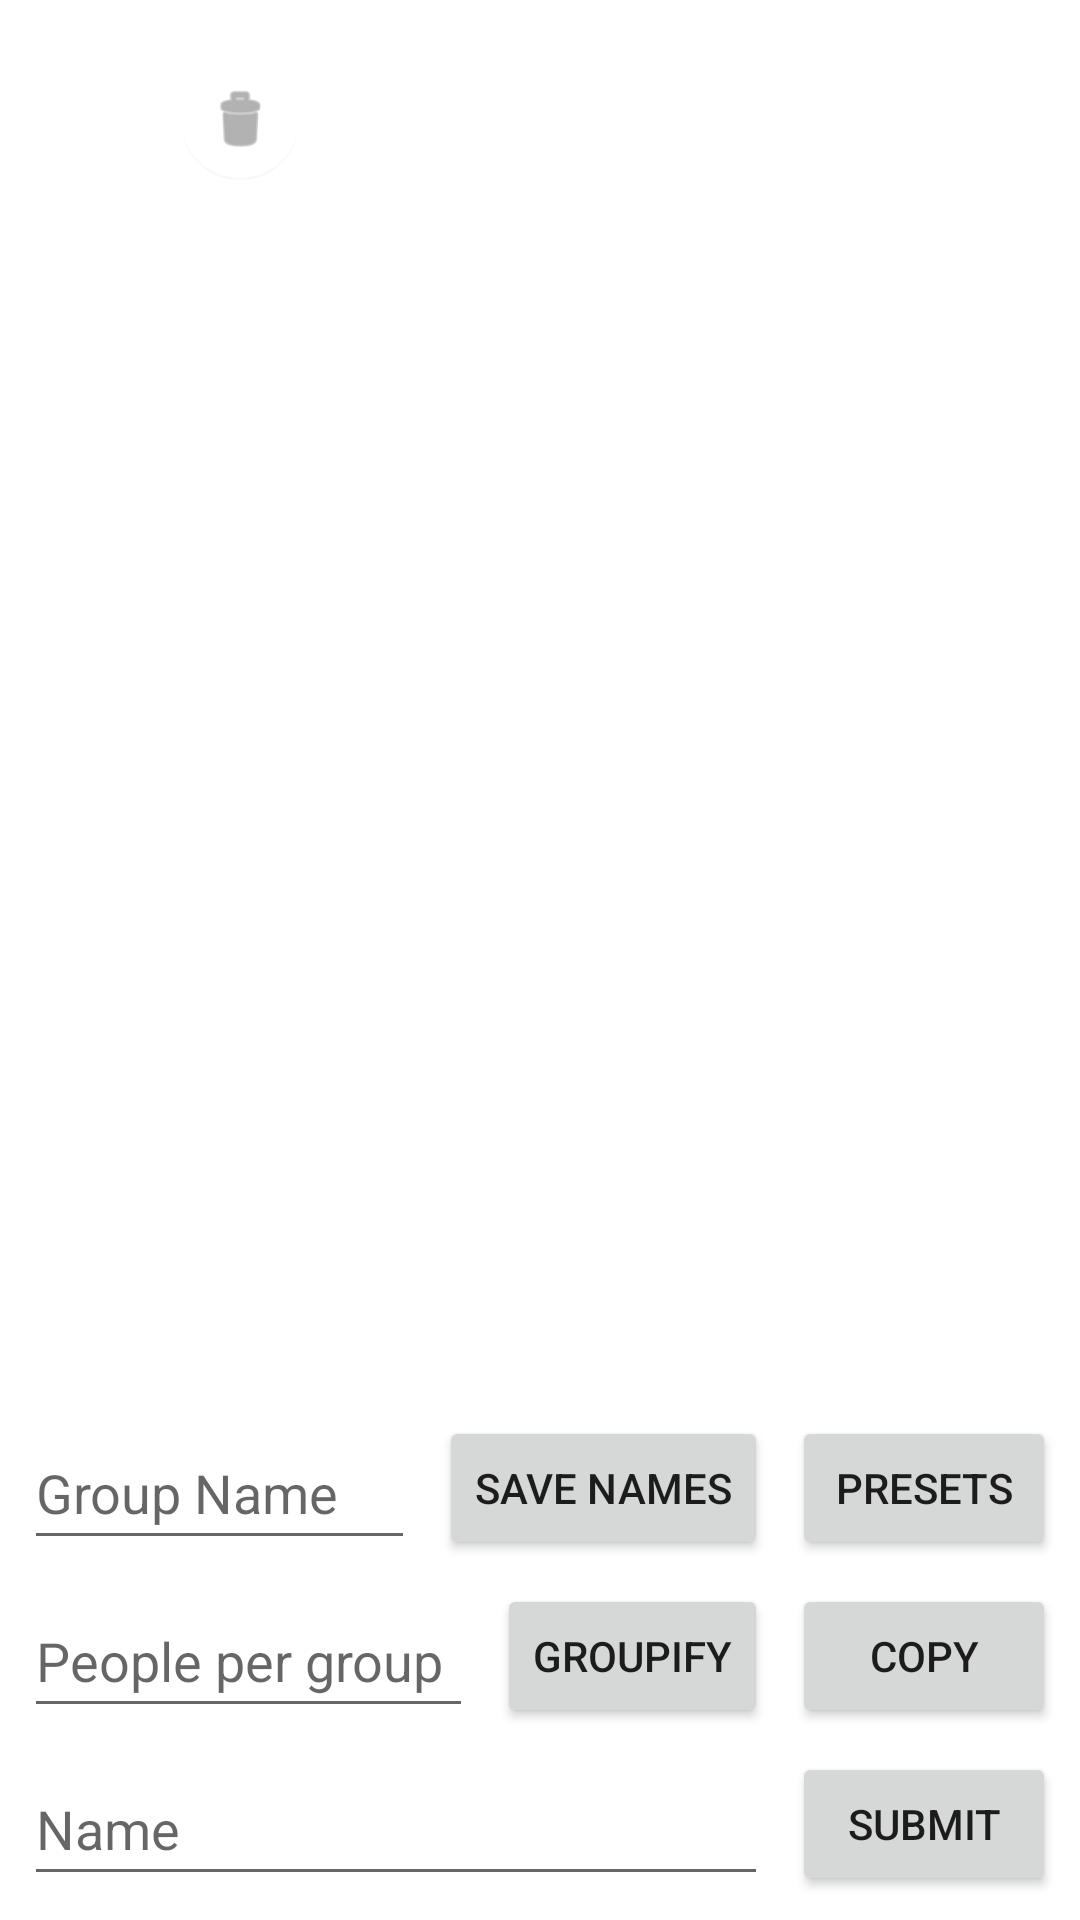

Named icons in this screenshot (1080 × 1920) and their centers, point (x, y):
delete: point (240, 119)
